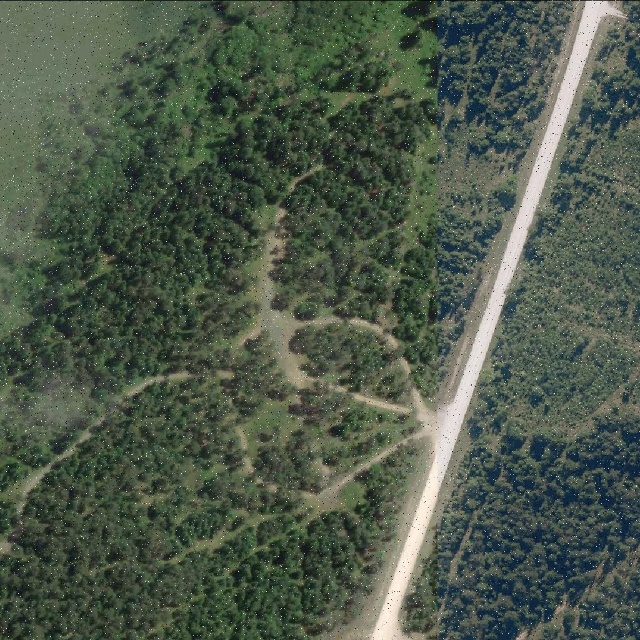vegetation: (0, 0, 576, 638), (398, 5, 640, 639)
